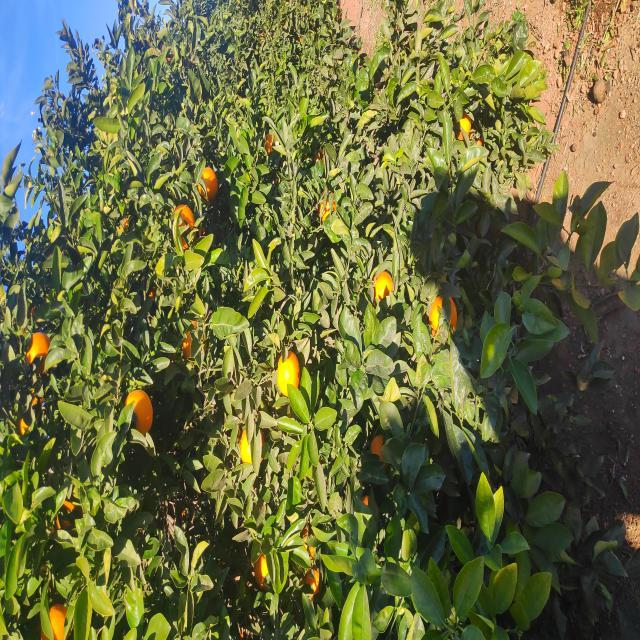Jeruk Sudah Matang: (206, 124, 251, 153), (303, 428, 345, 456), (243, 276, 290, 300), (0, 41, 37, 70), (391, 171, 436, 194), (438, 197, 473, 218), (278, 28, 308, 48), (336, 374, 368, 392), (280, 182, 320, 196), (111, 56, 140, 74), (176, 240, 212, 254), (80, 302, 116, 316), (52, 254, 86, 268), (41, 305, 71, 320), (498, 457, 526, 472), (418, 320, 441, 338), (177, 370, 204, 382), (488, 265, 508, 275), (207, 20, 220, 28)
